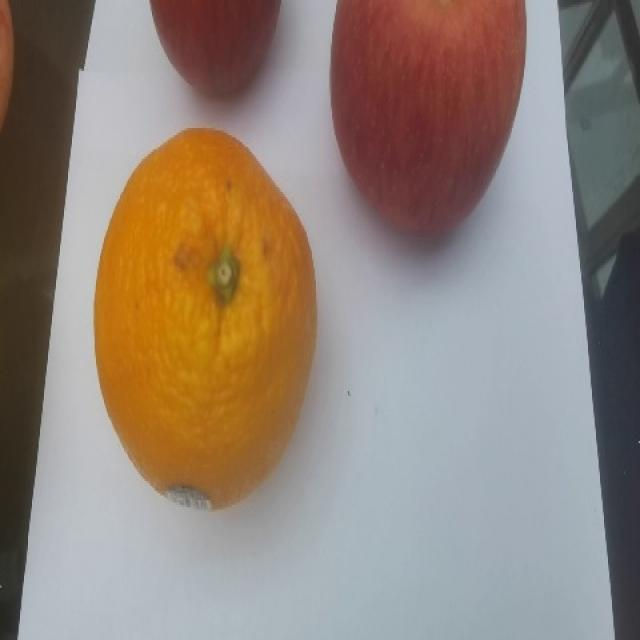Apple: (329, 0, 530, 239), (149, 0, 280, 101), (0, 6, 19, 122)
Orange: (95, 129, 318, 510)
